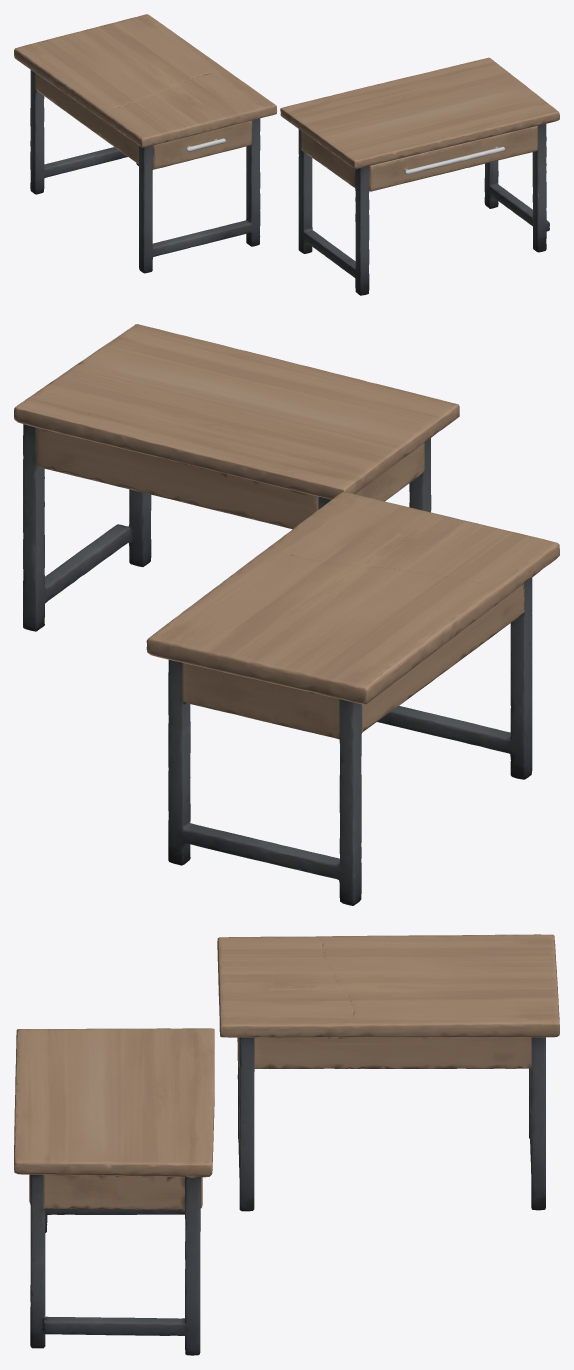
File: smalllectureroom_StudentDesk.glb
3 renders of one model, top to bottom at view 1: azimuth 30°, elevation 25°; view 2: azimuth 150°, elevation 25°; view 3: azimuth 270°, elevation 25°, orthographic. The views are drawn at different scales.
Parts seen in each view (by area): view 1: world; view 2: world; view 3: world.
Part boxes in pixels (left/top/right/bottom): world: left=14, top=14, right=559, bottom=295; world: left=14, top=324, right=559, bottom=905; world: left=14, top=934, right=559, bottom=1355.
Size of the model in its own units: 0.9961 by 0.393 by 1.
Materials: 1 (1 with a texture image).
